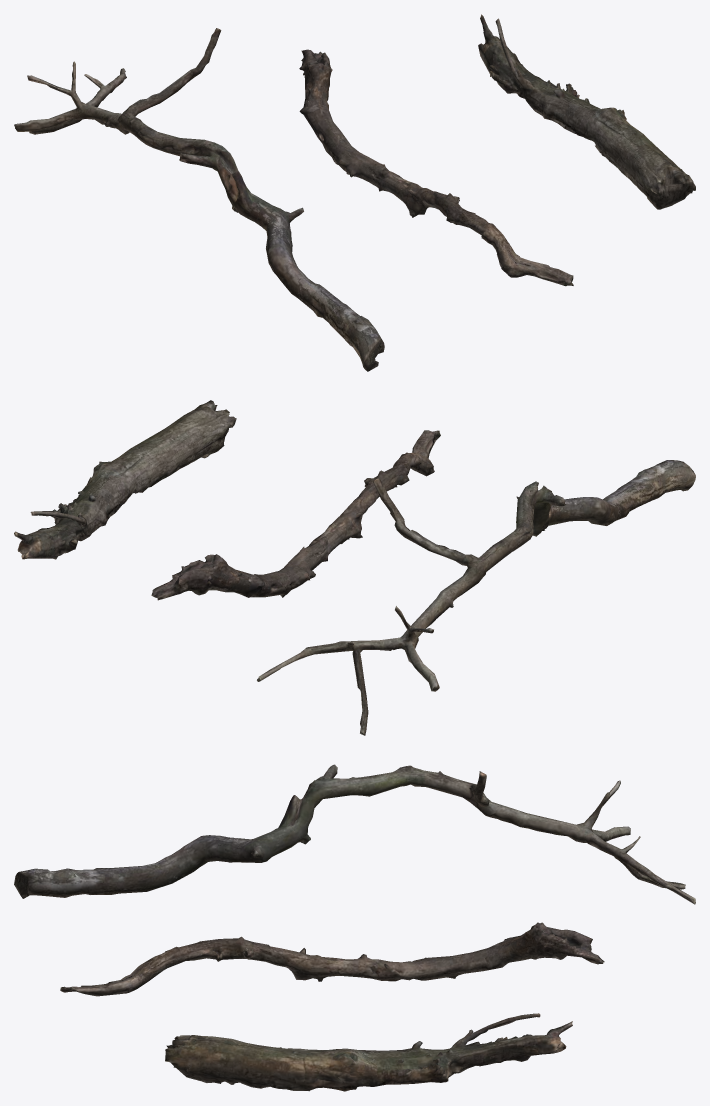
The model's file is dry_branches_medium_01.glb.
3 renders of one model, top to bottom at view 1: azimuth 30°, elevation 25°; view 2: azimuth 150°, elevation 25°; view 3: azimuth 270°, elevation 25°, orthographic. The views are drawn at different scales.
Parts seen in each view (by area): view 1: dry_branches_medium_01_a, dry_branches_medium_01_c, dry_branches_medium_01_b; view 2: dry_branches_medium_01_a, dry_branches_medium_01_c, dry_branches_medium_01_b; view 3: dry_branches_medium_01_a, dry_branches_medium_01_c, dry_branches_medium_01_b.
Boxes of the visible parts, bbox=[...] form: dry_branches_medium_01_a: bbox=[14, 28, 384, 371]; dry_branches_medium_01_c: bbox=[478, 14, 695, 209]; dry_branches_medium_01_b: bbox=[299, 49, 573, 286]; dry_branches_medium_01_a: bbox=[257, 460, 695, 735]; dry_branches_medium_01_c: bbox=[14, 400, 236, 559]; dry_branches_medium_01_b: bbox=[151, 430, 440, 600]; dry_branches_medium_01_a: bbox=[14, 764, 695, 904]; dry_branches_medium_01_c: bbox=[165, 1013, 572, 1091]; dry_branches_medium_01_b: bbox=[60, 922, 604, 996].
Size of the model in its own units: 1.06 by 0.3401 by 1.3.
Materials: 1 (1 with a texture image).
